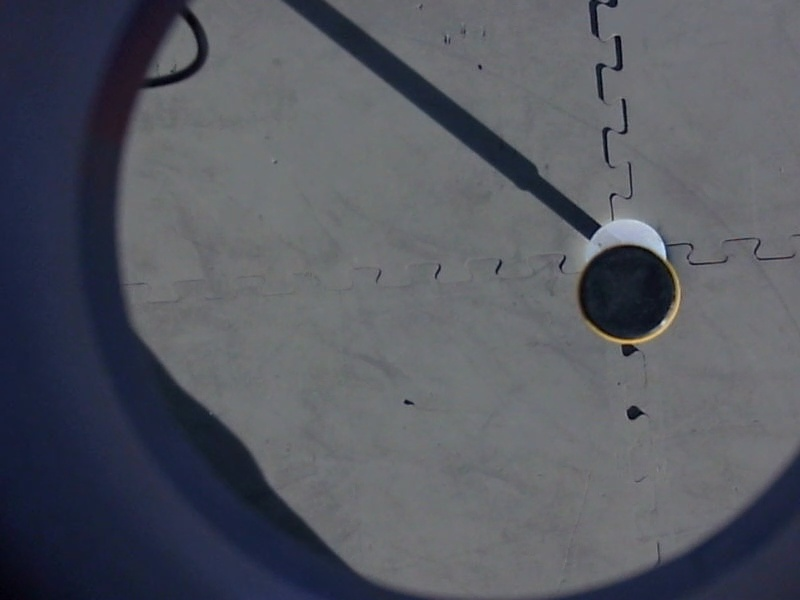tip: (571, 240, 687, 353)
